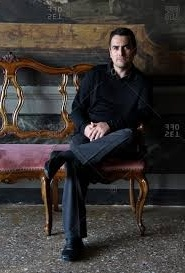not_fallen: (44, 20, 158, 261)
